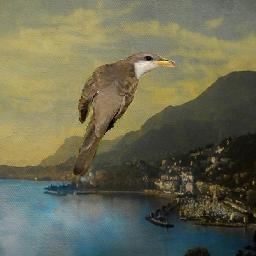Cuckoo: (71, 52, 176, 176)
